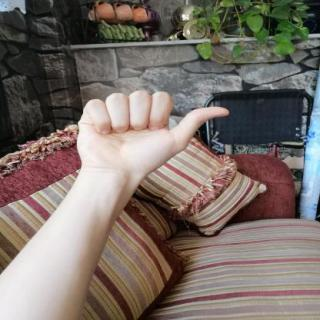DAD: (67, 83, 237, 183)
